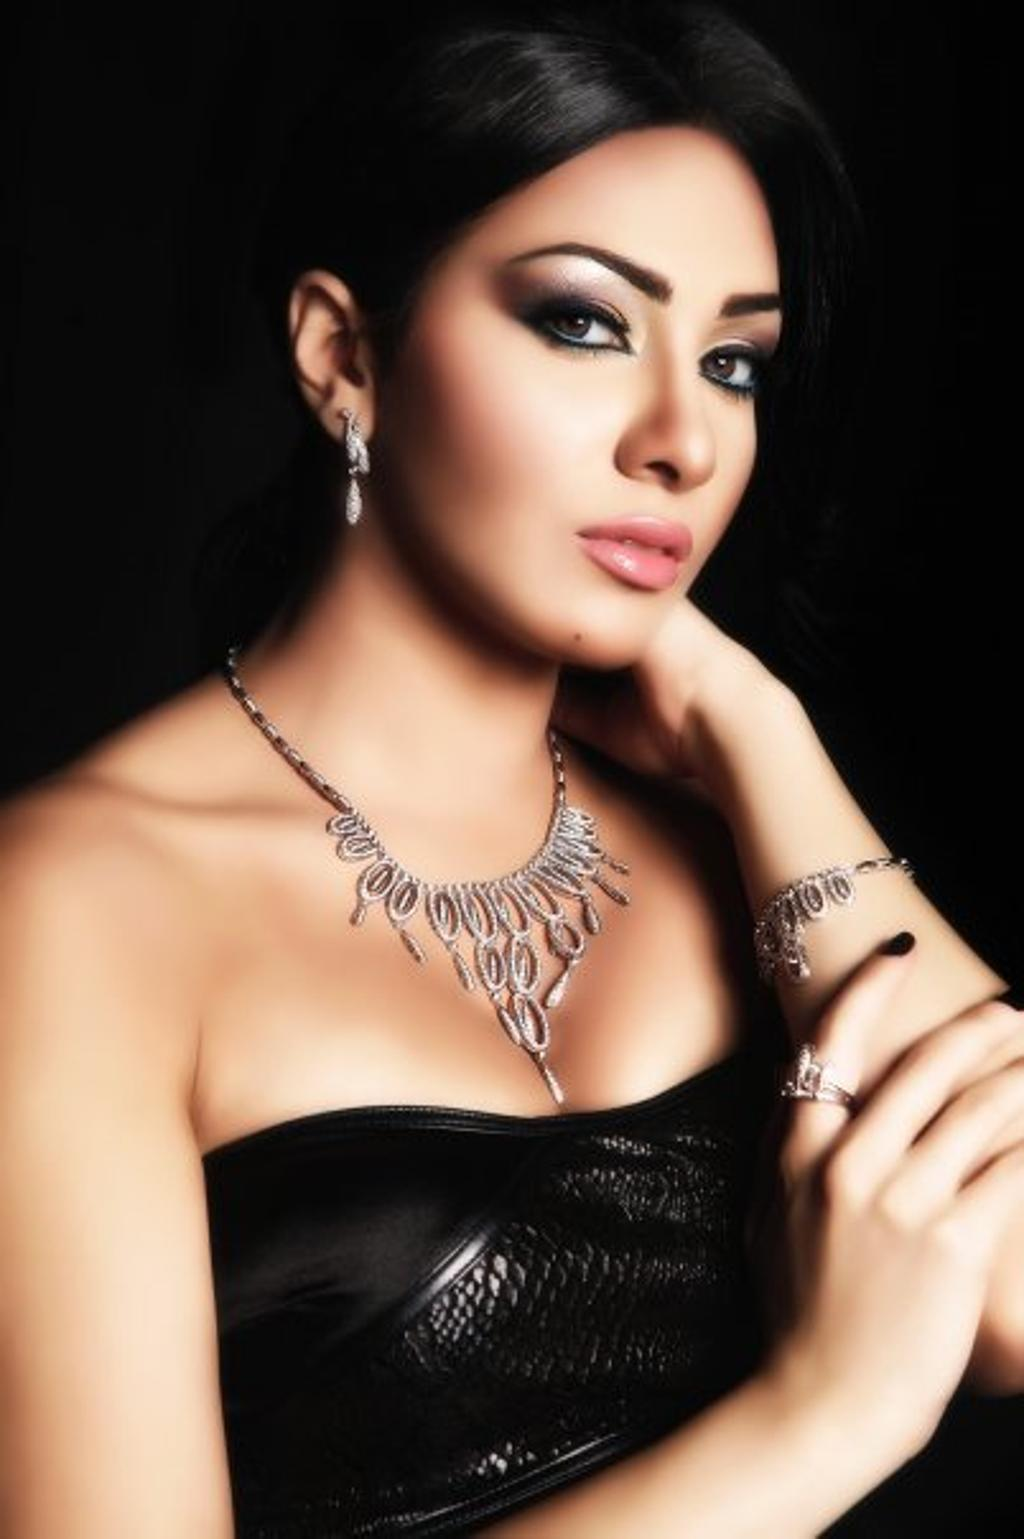face: (381, 120, 783, 670)
